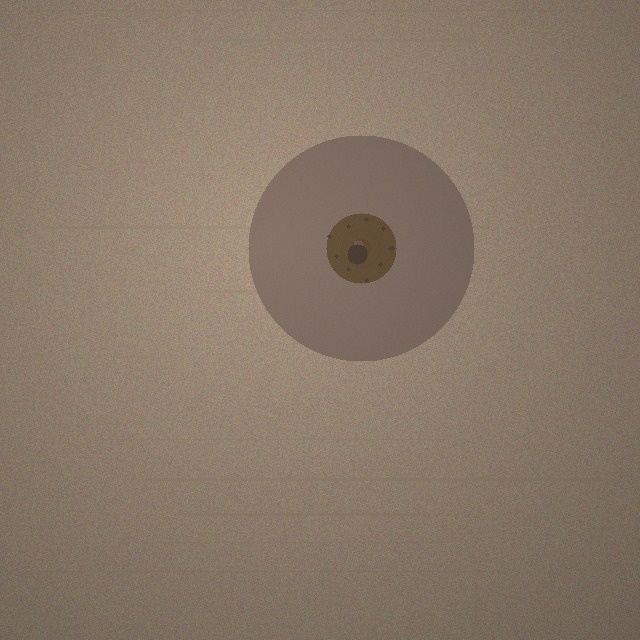cold_weld: (248, 135, 474, 361)
